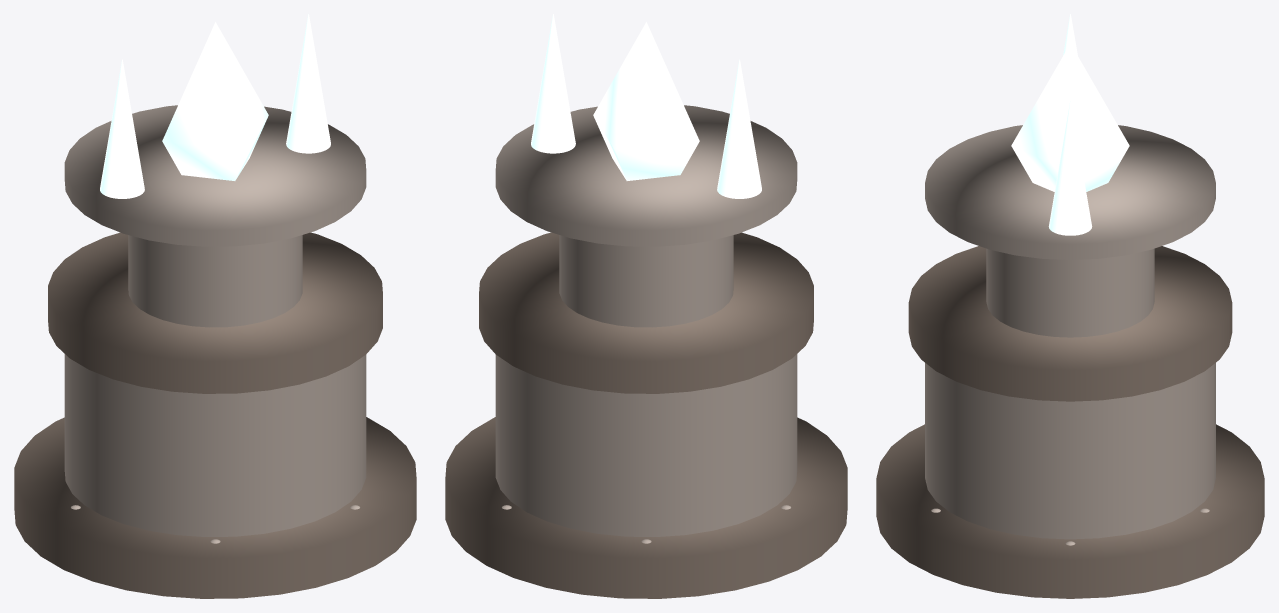
The model's file is ice_l2.glb.
The picture shows the model from 3 angles, left to right: view 1: azimuth 30°, elevation 25°; view 2: azimuth 150°, elevation 25°; view 3: azimuth 270°, elevation 25°; orthographic projection. The views are drawn at different scales.
Parts seen in each view (by area): view 1: base, footing, baseCollar, spinRing, shaft, spinCrystal, iceShardR, iceShardL; view 2: base, footing, baseCollar, spinRing, shaft, spinCrystal, iceShardR, iceShardL; view 3: base, footing, baseCollar, spinRing, shaft, spinCrystal, iceShardR.
Boxes of the visible parts, x1,y1,x2,y2 form: base: (64, 354, 366, 536); footing: (14, 417, 416, 598); baseCollar: (48, 232, 382, 393); spinRing: (64, 105, 366, 246); shaft: (128, 235, 302, 327); spinCrystal: (162, 22, 268, 180); iceShardR: (286, 14, 330, 153); iceShardL: (100, 59, 144, 198); base: (495, 354, 797, 536); footing: (445, 417, 847, 598); baseCollar: (479, 232, 813, 393); spinRing: (495, 105, 797, 246); shaft: (559, 235, 733, 327); spinCrystal: (593, 22, 699, 180); iceShardR: (531, 14, 575, 153); iceShardL: (717, 59, 761, 198); base: (925, 363, 1215, 539); footing: (876, 424, 1264, 598); baseCollar: (908, 246, 1232, 401); spinRing: (925, 125, 1215, 259); shaft: (986, 248, 1154, 337); spinCrystal: (1011, 43, 1129, 191); iceShardR: (1048, 101, 1092, 235).
Size of the model in its own units: 1.8 by 2.42 by 1.8.
